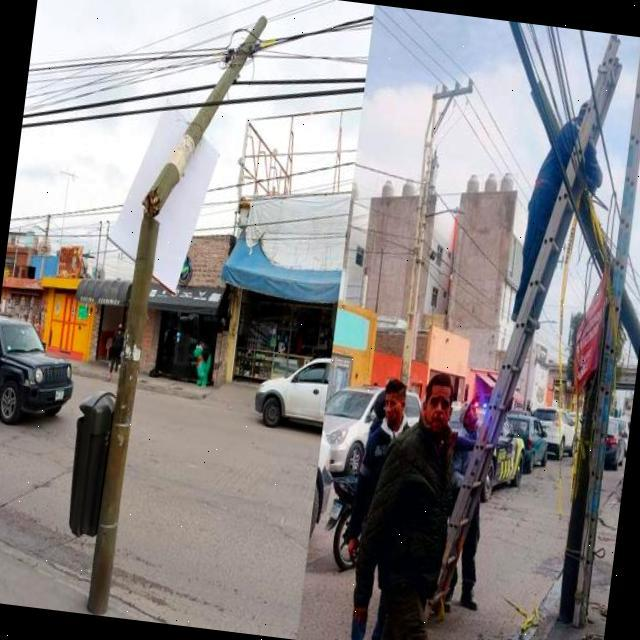Broken Pole: (68, 15, 266, 614), (529, 80, 640, 624)
